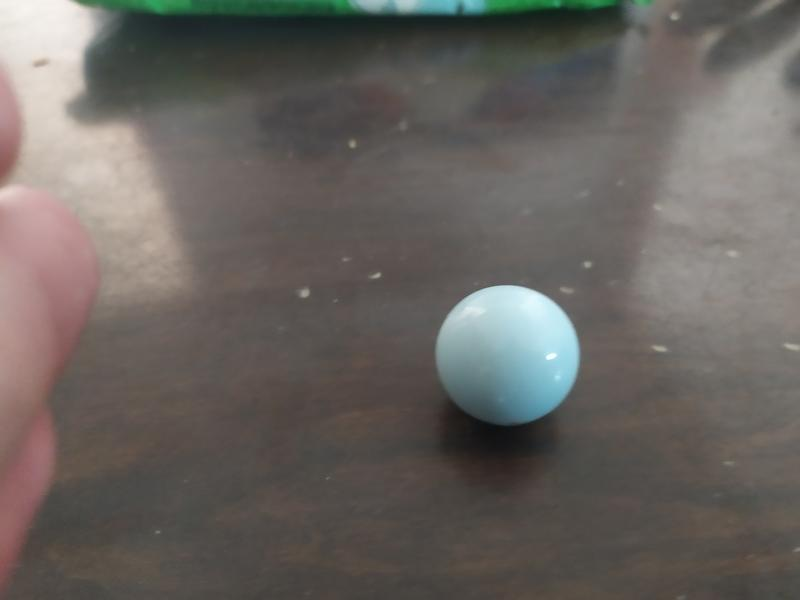Warning: (430, 280, 587, 431)
